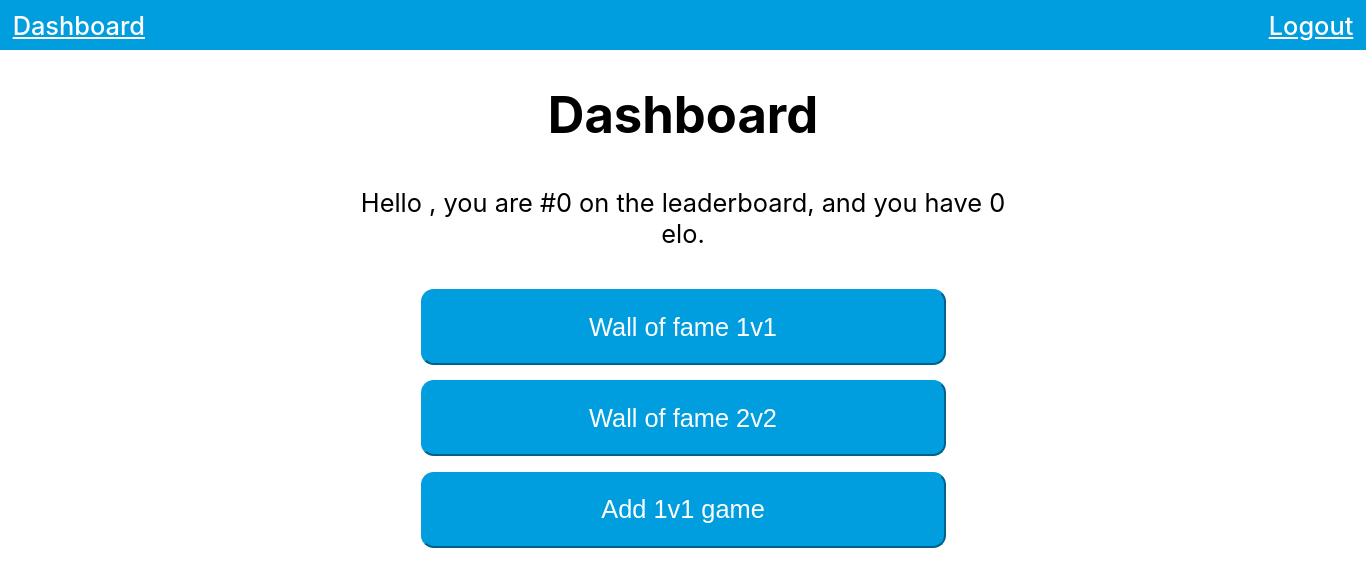
Test: renders the wall of fame
Click the button "Wall of fame 2v2".
click(683, 418)  # box 420,380 -> 946,456
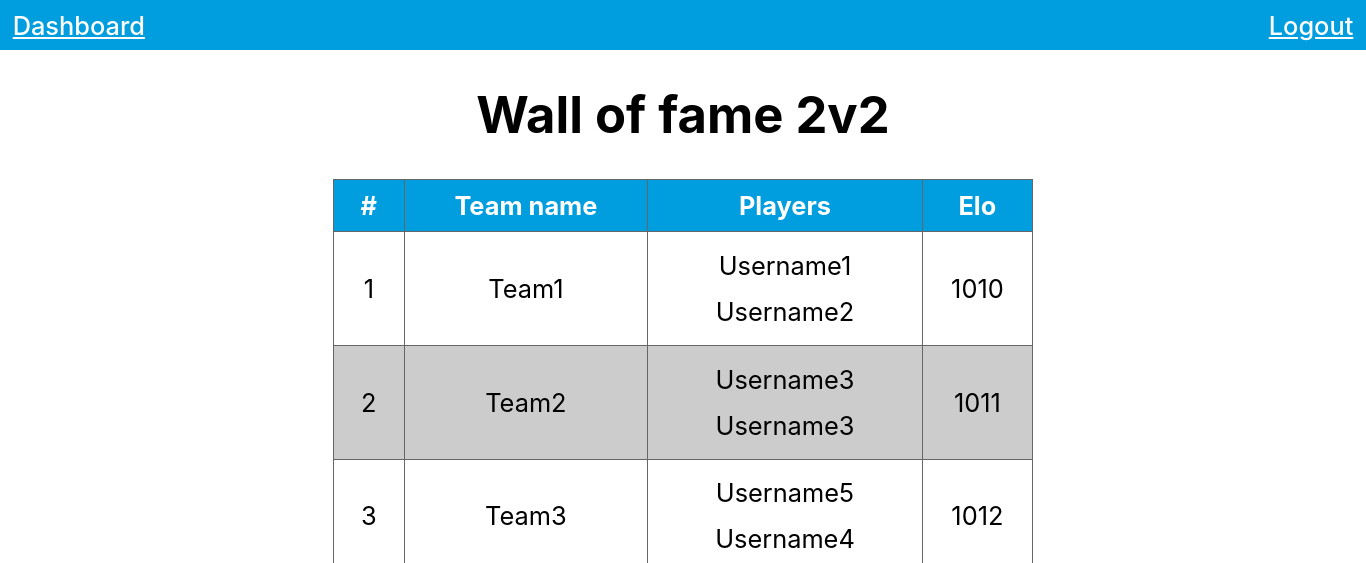
Expected: the heading "Wall of fame 2v2" is shown, 333,84 -> 1033,145
Expected: the text "Team1" is shown, 404,232 -> 648,345
